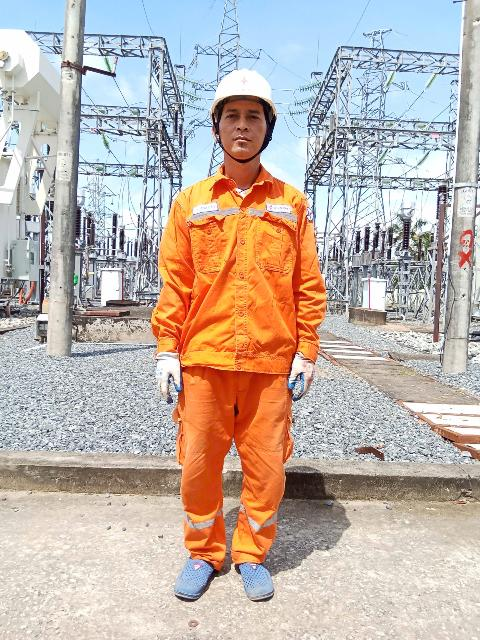gloves: (273, 348, 328, 403), (140, 347, 187, 408)
helmet: (188, 63, 298, 131)
shoes: (148, 540, 225, 598), (233, 545, 287, 608)
